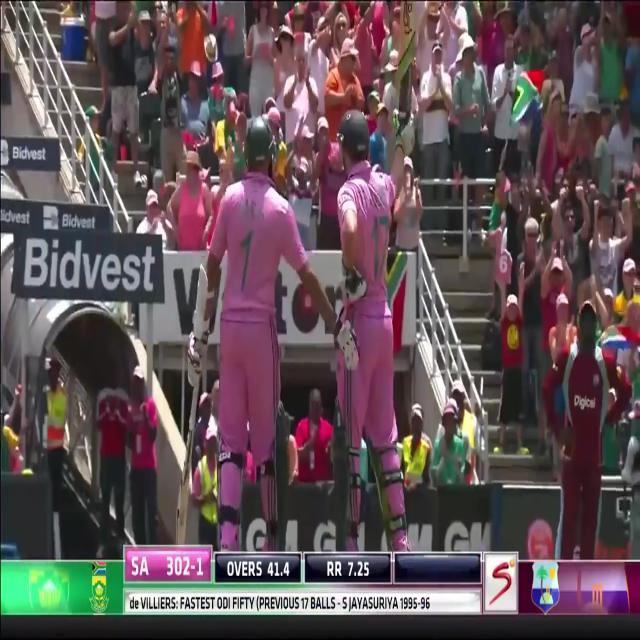Ball: (206, 117, 301, 553), (332, 117, 413, 555)
Fielder: (543, 294, 633, 560)
